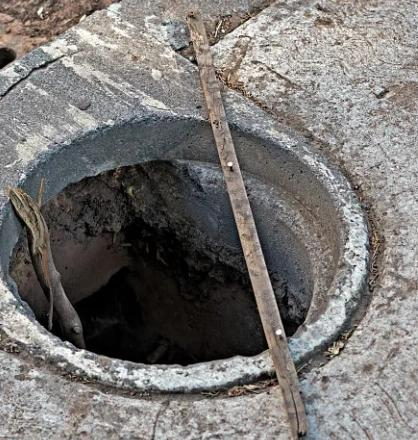wellcover: (0, 86, 382, 398)
